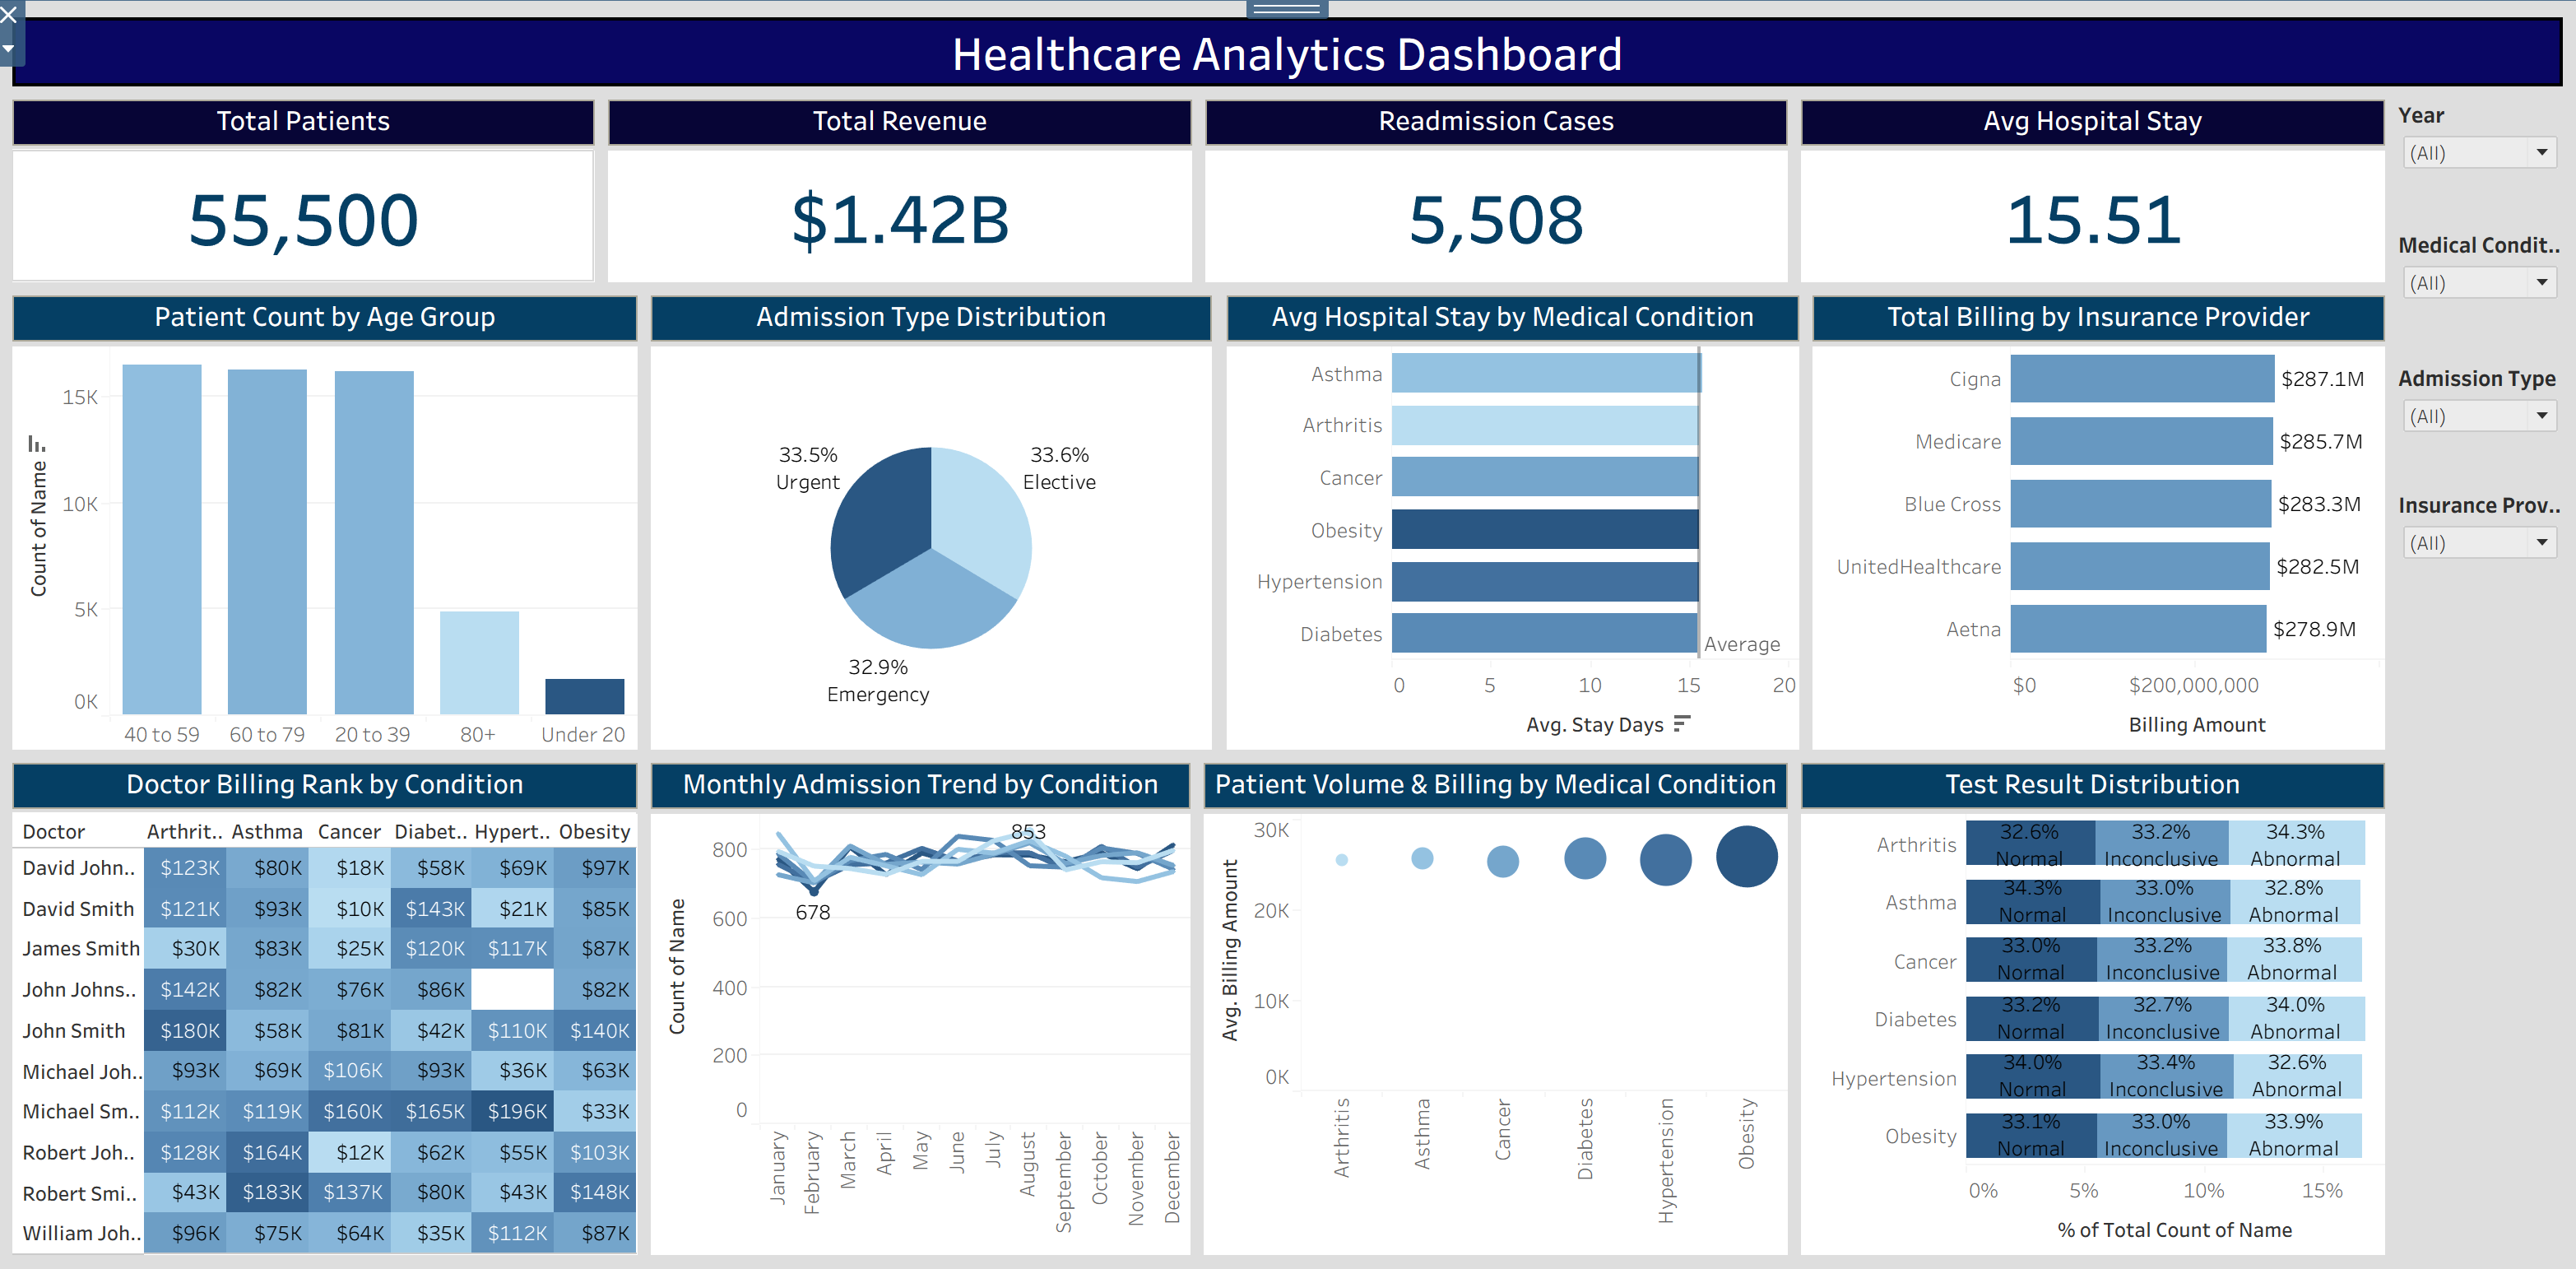

The page's visual inventory and layout, read from the dashboard file:
{"tool":"tableau","page":{"name":"Dashboard 1","canvas":[1000,1000],"units":"permille","ordinal":0},"visuals":[{"type":"text","box":[5.1,10.3,989.8,64.4]},{"type":"worksheet","title":"Total Patient","mark":"Automatic","box":[5.1,74.7,230.1,153.8]},{"type":"worksheet","title":"Total Revenue","mark":"Automatic","box":[235.1,74.7,230.5,153.8]},{"type":"worksheet","title":"Readmission Cases","mark":"Automatic","box":[465.6,74.7,230.3,153.8]},{"type":"worksheet","title":"Avg Hospital Stay","mark":"Automatic","box":[695.9,74.7,230.4,153.8]},{"type":"filter","title":"Monthly Admission Trend by Condition","param":"[federated.0ie999b0hpq9a713pfidv08svj35].[yr:Date_of_Admission:ok]","box":[926.3,74.7,68.6,101.8]},{"type":"filter","title":"Avg Hospital Stay by Medical Condition","param":"[federated.0ie999b0hpq9a713pfidv08svj35].[none:Medical_Condition:nk]","box":[926.3,176.5,68.6,104.4]},{"type":"worksheet","title":"Patient Count by Age Group","mark":"Automatic","rows":["Name"],"cols":["Calculation_1265591778983937"],"box":[5.1,228.5,246.8,366]},{"type":"worksheet","title":"Admission Type Distribution","mark":"Pie","box":[251.9,228.5,222,366]},{"type":"worksheet","title":"Avg Hospital Stay by Medical Condition","mark":"Automatic","rows":["Medical_Condition"],"cols":["Calculation_1265591778222080"],"box":[473.9,228.5,226.2,366]},{"type":"worksheet","title":"Total Billing by Insurance Provider","mark":"Bar","rows":["Insurance_Provider"],"cols":["Billing_Amount"],"box":[700.1,228.5,226.2,366]},{"type":"filter","title":"Admission Type Distribution","param":"[federated.0ie999b0hpq9a713pfidv08svj35].[none:Admission_Type:nk]","box":[926.3,280.9,68.6,99.2]},{"type":"filter","title":"Total Billing by Insurance Provider","param":"[federated.0ie999b0hpq9a713pfidv08svj35].[none:Insurance_Provider:nk]","box":[926.3,380.2,68.6,91.5]},{"type":"worksheet","title":"Doctor Billing Rank by Condition","mark":"Square","rows":["Doctor"],"cols":["Medical_Condition"],"box":[5.1,594.5,246.8,395.2]},{"type":"worksheet","title":"Monthly Admission Trend by Condition","mark":"Line","rows":["Name"],"cols":["Date_of_Admission"],"box":[251.9,594.5,213.4,395.2]},{"type":"worksheet","title":"Patient Volume & Billing by Medical Condition","mark":"Circle","rows":["Billing_Amount"],"cols":["Medical_Condition"],"box":[465.2,594.5,230.7,395.2]},{"type":"worksheet","title":"Test Result Distribution","mark":"Automatic","rows":["Medical_Condition"],"box":[695.9,594.5,230.4,395.2]}]}

Visuals, with their boxes on the dashboard's canvas, which has no fixed pixel size, in thousandths of its width and height (x1, y1, x2, y2). These are canvas units, not pixel positions in the 2576x1269 screenshot, which may show the page scaled, cropped or inside an application window:
text: pyautogui.locateOnScreen(5, 10, 995, 75)
"Total Patient" worksheet: pyautogui.locateOnScreen(5, 75, 235, 228)
"Total Revenue" worksheet: pyautogui.locateOnScreen(235, 75, 466, 228)
"Readmission Cases" worksheet: pyautogui.locateOnScreen(466, 75, 696, 228)
"Avg Hospital Stay" worksheet: pyautogui.locateOnScreen(696, 75, 926, 228)
"Monthly Admission Trend by Condition" filter: pyautogui.locateOnScreen(926, 75, 995, 176)
"Avg Hospital Stay by Medical Condition" filter: pyautogui.locateOnScreen(926, 176, 995, 281)
"Patient Count by Age Group" worksheet: pyautogui.locateOnScreen(5, 228, 252, 594)
"Admission Type Distribution" worksheet (Pie marks): pyautogui.locateOnScreen(252, 228, 474, 594)
"Avg Hospital Stay by Medical Condition" worksheet: pyautogui.locateOnScreen(474, 228, 700, 594)
"Total Billing by Insurance Provider" worksheet (Bar marks): pyautogui.locateOnScreen(700, 228, 926, 594)
"Admission Type Distribution" filter: pyautogui.locateOnScreen(926, 281, 995, 380)
"Total Billing by Insurance Provider" filter: pyautogui.locateOnScreen(926, 380, 995, 472)
"Doctor Billing Rank by Condition" worksheet (Square marks): pyautogui.locateOnScreen(5, 594, 252, 990)
"Monthly Admission Trend by Condition" worksheet (Line marks): pyautogui.locateOnScreen(252, 594, 465, 990)
"Patient Volume & Billing by Medical Condition" worksheet (Circle marks): pyautogui.locateOnScreen(465, 594, 696, 990)
"Test Result Distribution" worksheet: pyautogui.locateOnScreen(696, 594, 926, 990)
